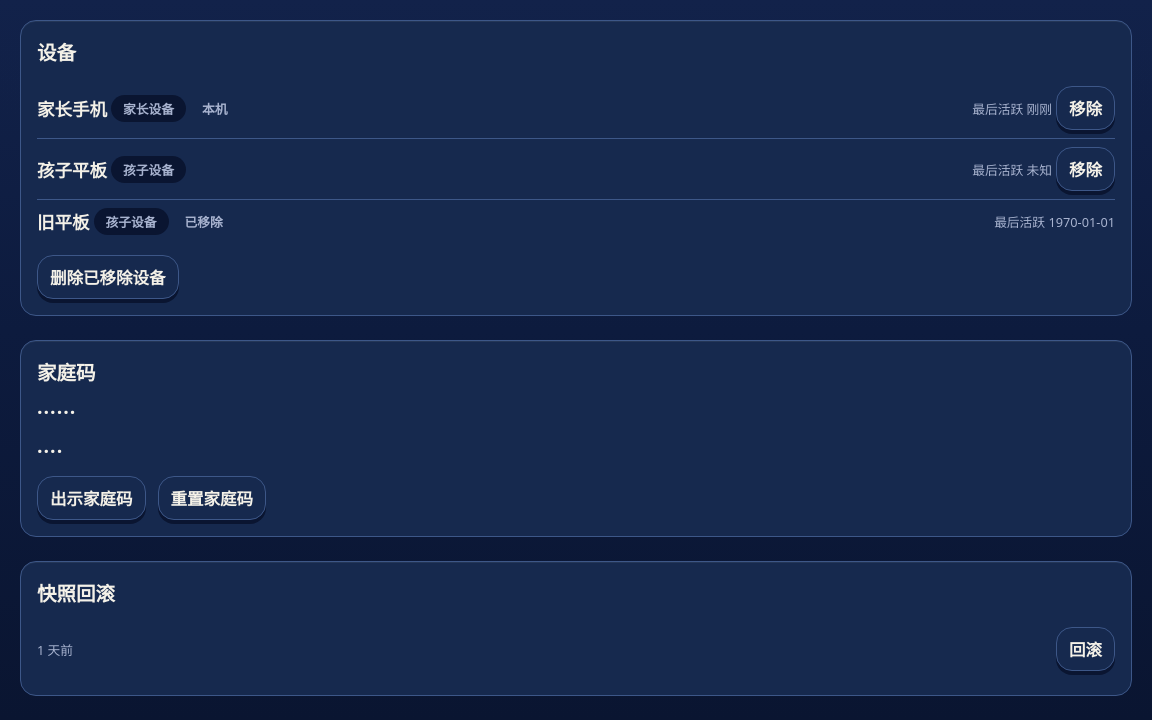
Test case: #127 家庭码 › 平时隐藏（掩码不出码）：出示后同屏可见 6 位码与家庭口令，可再隐藏（#192 成对出示/隐藏）
This screenshot has width=1152, height=720.
Expected: the text with class "family-code-value" reads "······", [37,398,76,425]
Expected: the element with class "family-code-value" does not show "123456"
Click the button with class "btn-code-show".
click(91, 498)  # box [37,476,146,520]
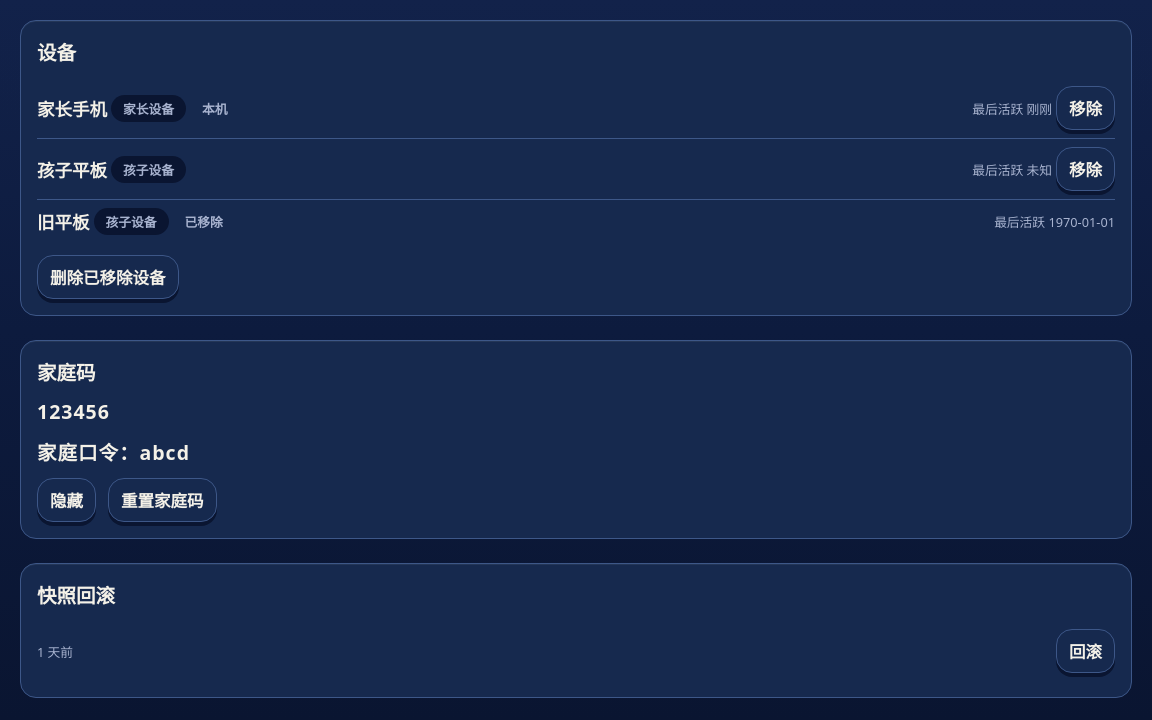
Expected: the text with class "family-code-value" reads "123456", [37,398,110,425]
Click the button with class "btn-code-hide".
click(66, 500)  # box [37,478,96,522]
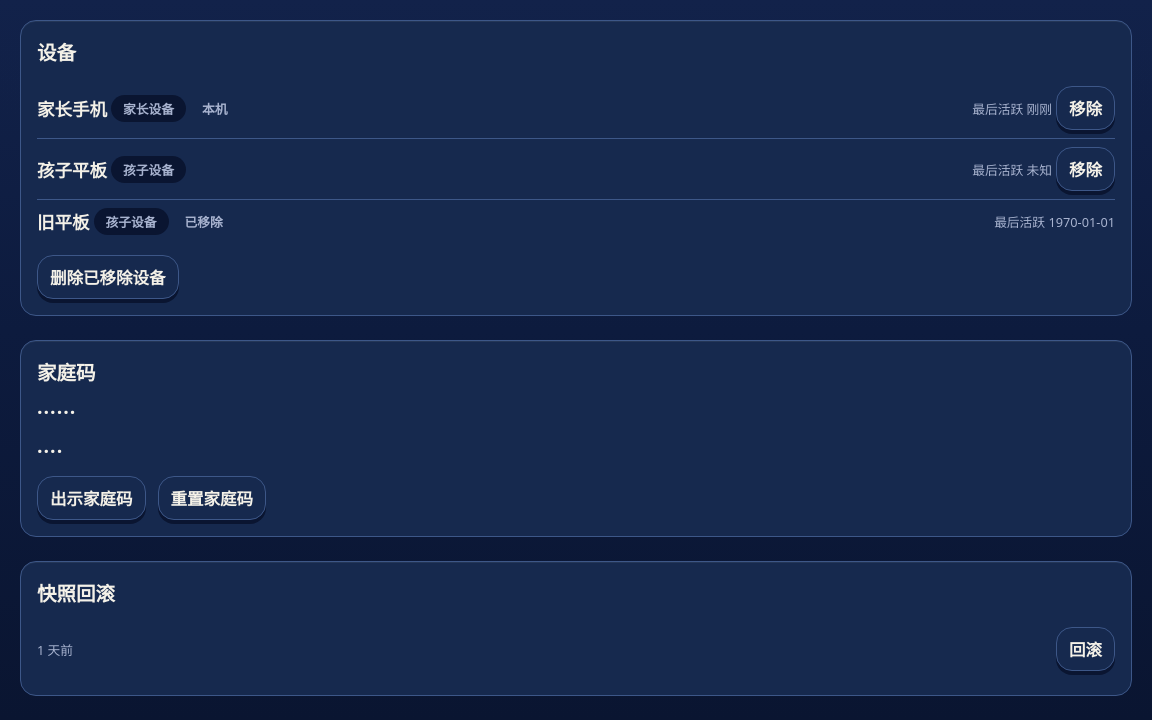
Expected: the text with class "family-code-value" reads "······", [37,398,76,425]
Expected: the text with class "family-passphrase-value" reads "····", [37,437,63,464]
